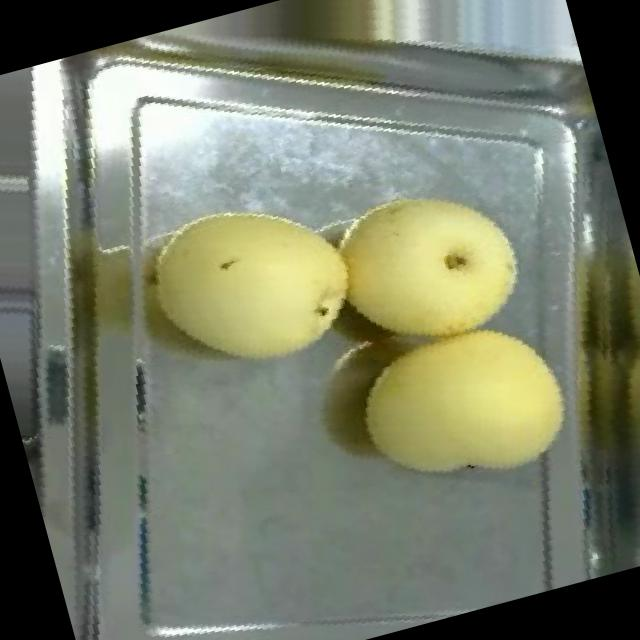Fruit: (108, 150, 390, 420), (319, 280, 612, 534), (292, 139, 560, 390)
